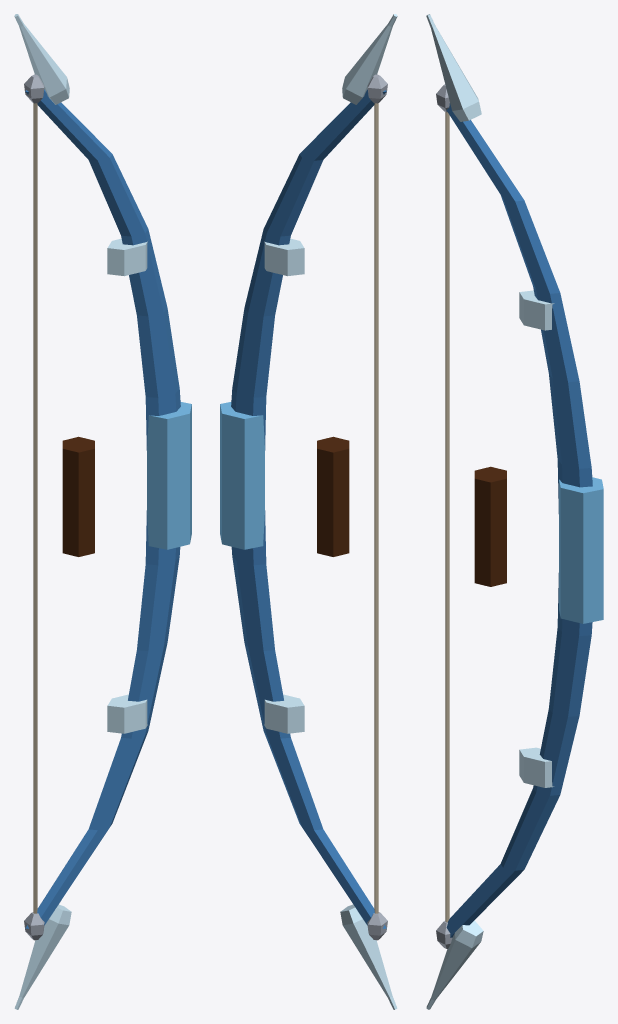
File: wpn_bow_7.glb
The picture shows the model from 3 angles, left to right: view 1: azimuth 30°, elevation 25°; view 2: azimuth 150°, elevation 25°; view 3: azimuth 330°, elevation 25°; orthographic projection.
Visible parts, largest first — view 1: wpn_bow_7; view 2: wpn_bow_7; view 3: wpn_bow_7.
Boxes of the visible parts, <box> form: wpn_bow_7: <box>14,14,191,1009</box>; wpn_bow_7: <box>220,14,397,1009</box>; wpn_bow_7: <box>426,14,603,1009</box>.
Size of the model in its own units: 0.2839 by 1.52 by 0.052.
